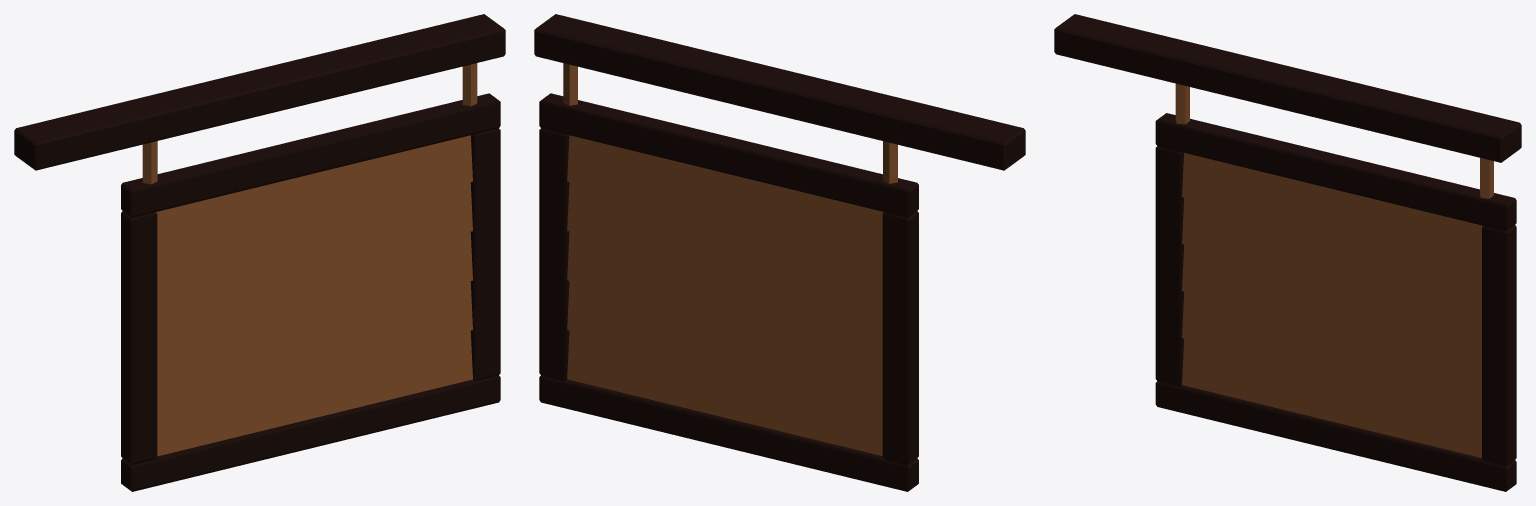
Rendered from ww_small_sign.glb.
3 renders of one model, left to right at view 1: azimuth 30°, elevation 25°; view 2: azimuth 150°, elevation 25°; view 3: azimuth 330°, elevation 25°, orthographic. The views are drawn at different scales.
Visible parts, largest first — view 1: Small_Sign; view 2: Small_Sign; view 3: Small_Sign.
Boxes of the visible parts, x1=… form: Small_Sign: x1=14, y1=14, x2=505, y2=491; Small_Sign: x1=534, y1=14, x2=1025, y2=491; Small_Sign: x1=1054, y1=14, x2=1521, y2=491.
Bounding box in the file's own units: 1.65 × 1.26 × 0.1313.
